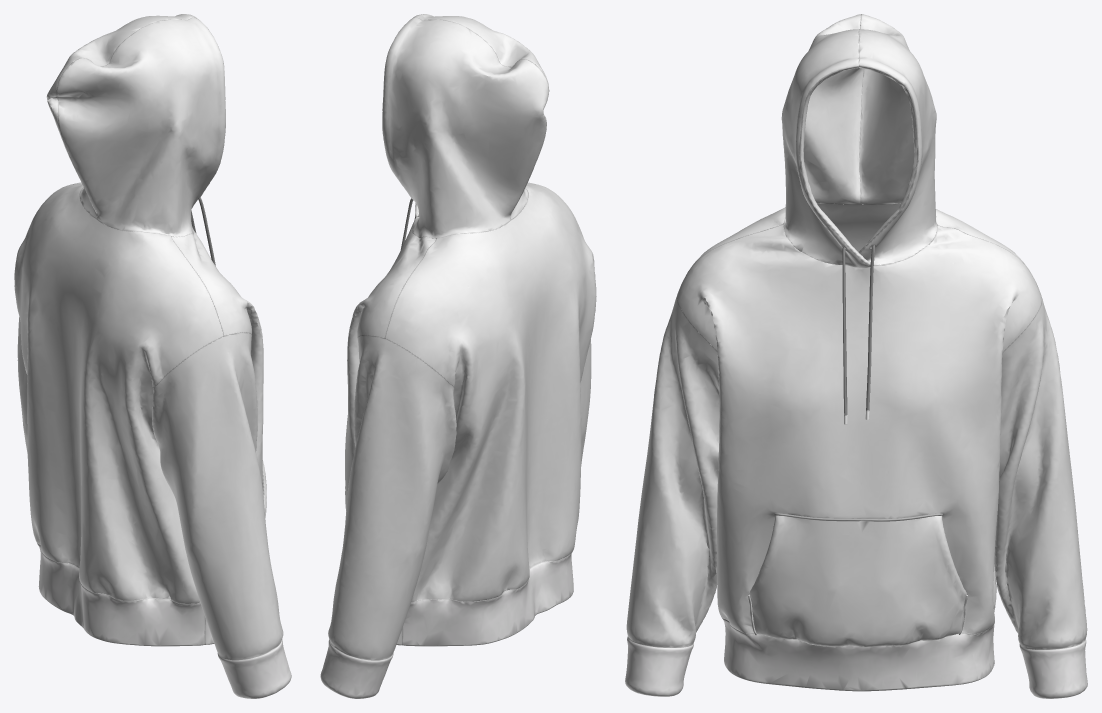
The model's file is hoodie.glb.
The picture shows the model from 3 angles, left to right: view 1: azimuth 30°, elevation 25°; view 2: azimuth 150°, elevation 25°; view 3: azimuth 270°, elevation 25°; orthographic projection. The views are drawn at different scales.
Parts seen in each view (by area): view 1: Object_2; view 2: Object_2; view 3: Object_2.
Part boxes in pixels (x1,y1,x2,y2): Object_2: [14, 14, 291, 698]; Object_2: [320, 14, 596, 698]; Object_2: [625, 14, 1087, 698].
Bounding box in the file's own units: 0.2988 × 0.9485 × 0.6057.
1 material, 1 textured.
